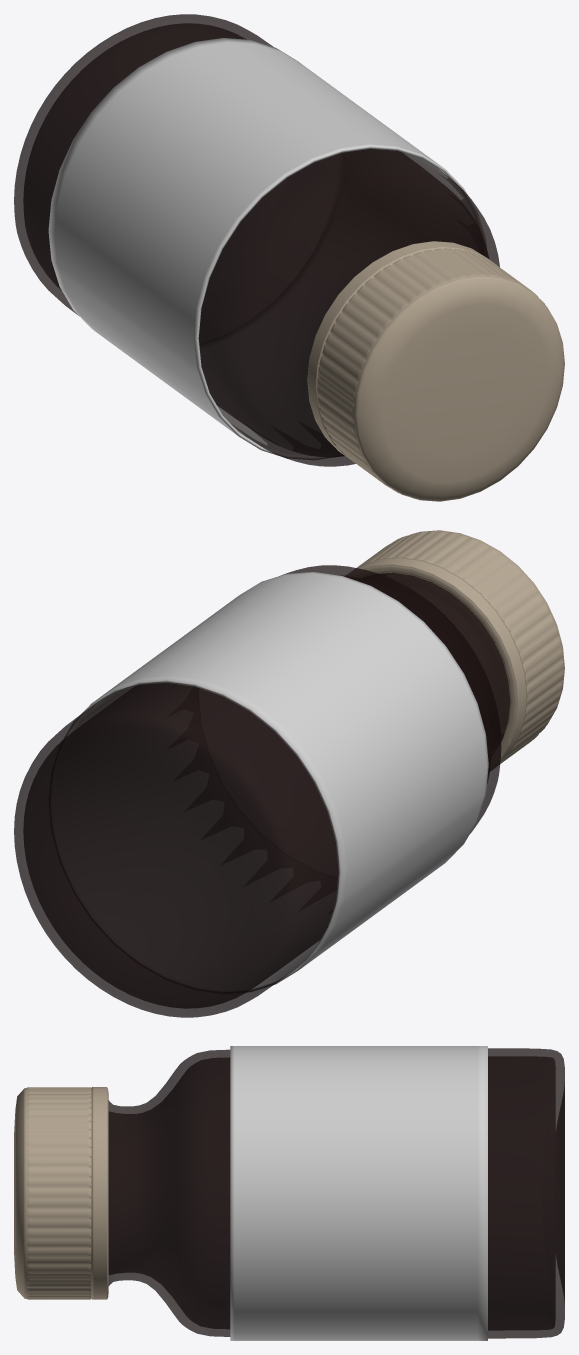
The picture shows the model from 3 angles, top to bottom: view 1: azimuth 30°, elevation 25°; view 2: azimuth 150°, elevation 25°; view 3: azimuth 270°, elevation 25°; orthographic projection. The views are drawn at different scales.
Parts seen in each view (by area): view 1: Sodium_NitroPrusside_Cover_Sodium_NitroPrusside_Cover_0; view 2: Sodium_NitroPrusside_Cover_Sodium_NitroPrusside_Cover_0; view 3: Sodium_NitroPrusside_Cover_Sodium_NitroPrusside_Cover_0.
Part boxes in pixels (x1,y1,x2,y2): Sodium_NitroPrusside_Cover_Sodium_NitroPrusside_Cover_0: (14,14,564,501); Sodium_NitroPrusside_Cover_Sodium_NitroPrusside_Cover_0: (14,530,564,1017); Sodium_NitroPrusside_Cover_Sodium_NitroPrusside_Cover_0: (14,1046,564,1340).
Size of the model in its own units: 0.0558 by 0.0558 by 0.1042.
